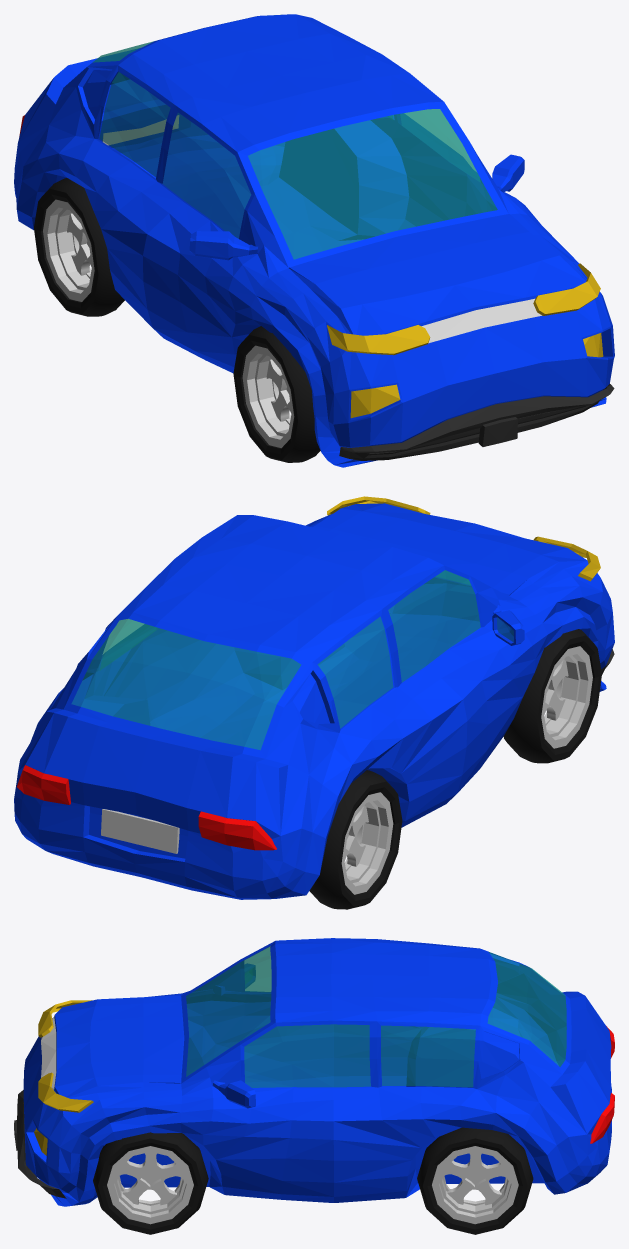
File: SM_car_economy.FBX
3 renders of one model, top to bottom at view 1: azimuth 30°, elevation 25°; view 2: azimuth 150°, elevation 25°; view 3: azimuth 270°, elevation 25°, orthographic. The views are drawn at different scales.
Visible parts, largest first — view 1: car_body; view 2: car_body; view 3: car_body.
Part boxes in pixels (x1,y1,x2,y2): car_body: (14,14,614,467); car_body: (14,496,614,909); car_body: (14,938,614,1234).
Size of the model in its own units: 194 by 139 by 369.
